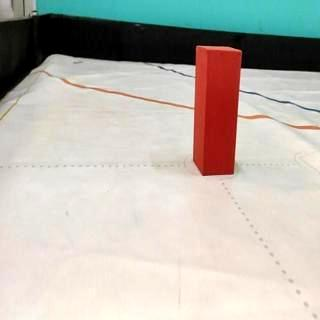redbox: (196, 47, 236, 175)
